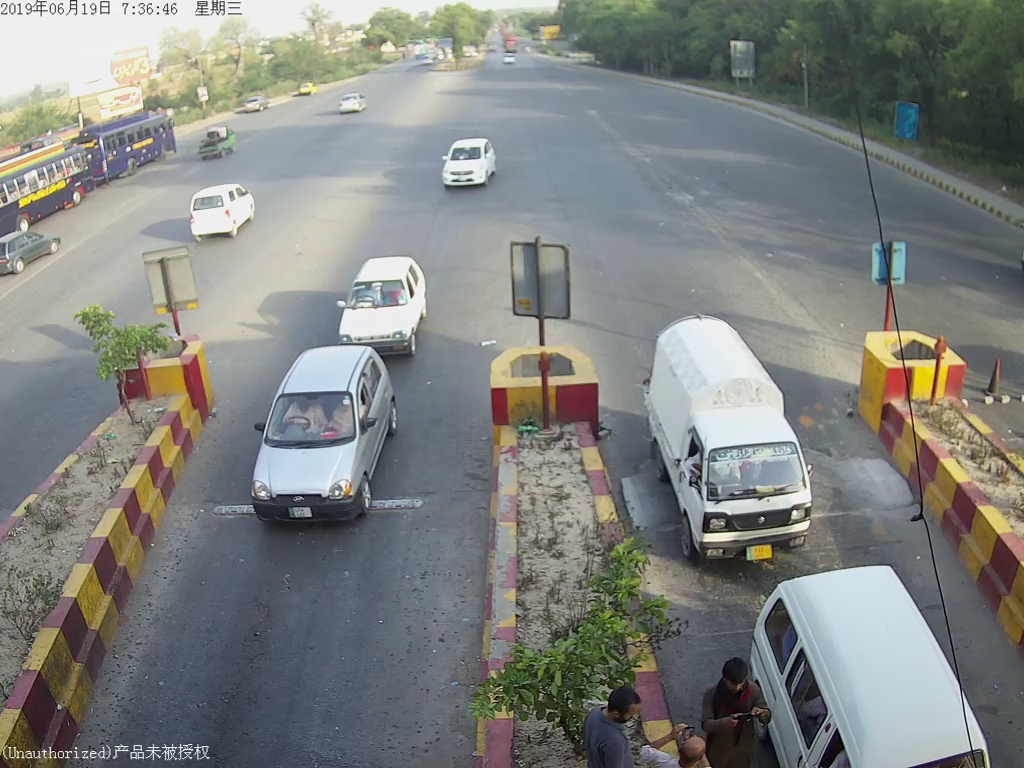Cat-1: (639, 313, 822, 565), (247, 346, 389, 527), (337, 247, 429, 356), (180, 176, 261, 240), (439, 136, 501, 193)
